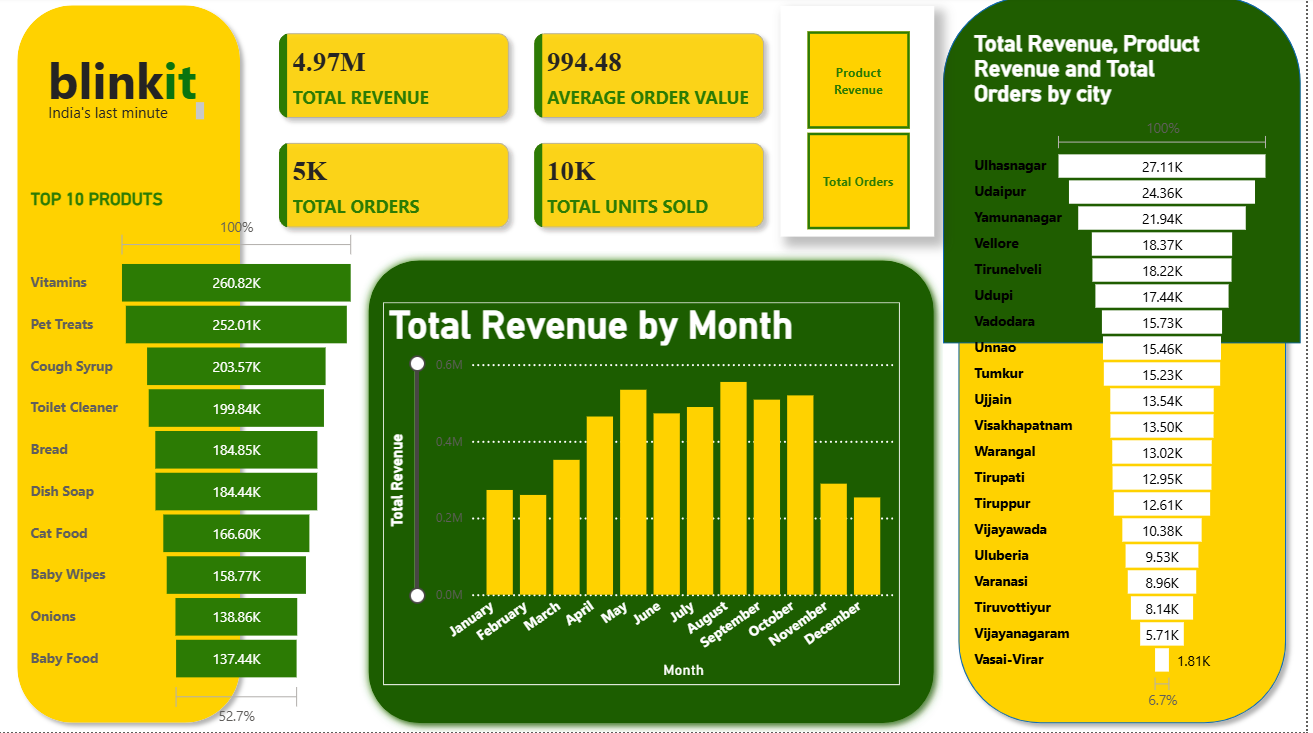

What the dashboard file says about the page in this screenshot:
{"tool":"powerbi","page":{"name":"Sales & Order summary","canvas":[1280,720],"ordinal":0},"visuals":[{"type":"shape","box":[10,0,236,720],"z":0},{"type":"textbox","box":[44,44,238,78],"z":1000},{"type":"textbox","box":[43.8,98.5,162.3,34.6],"z":2000},{"type":"cardVisual","fields":{"Data":["blinkit_customer_feedback.Total Revenue","blinkit_customer_feedback.Average Order Value","blinkit_customer_feedback.Total Orders","blinkit_customer_feedback.Total Units Sold"]},"box":[258.6,20,508.6,225.7],"z":3000},{"type":"shape","box":[353.4,249.5,571.1,470.8],"z":4000},{"type":"columnChart","fields":{"Category":["blinkit_orders.order_date.Variation.Date Hierarchy.Month"],"Y":["blinkit_customer_feedback.Total Revenue"]},"box":[377.1,300,505.7,374.3],"z":5000},{"type":"funnel","title":"TOP 10 PRODUTS","fields":{"Category":["blinkit_products.product_name"],"Y":["blinkit_customer_feedback.Total Revenue"]},"box":[26.7,188.3,328.3,531.7],"z":6000},{"type":"shape","box":[930,22.9,338.6,697.1],"z":7000},{"type":"shape","box":[924.3,0,350,340],"z":8000},{"type":"funnel","fields":{"Category":["blinkit_customers.city"],"Y":["blinkit_customer_feedback.Total Revenue"]},"box":[950,34.3,300,668.6],"z":9000},{"type":"slicer","fields":{"Values":["Parameter.Parameter"]},"box":[765.7,10,150,225.7],"z":10000}]}

Visuals, with their boxes in screenshot pixels (x1, y1, x2, y2), scaled from the page's 1280x720 canvas onto the 1313x733 screenshot:
shape: [x1=10, y1=0, x2=252, y2=732]
textbox: [x1=45, y1=45, x2=289, y2=124]
textbox: [x1=45, y1=100, x2=211, y2=136]
cardVisual - blinkit_customer_feedback.Total Revenue x blinkit_customer_feedback.Average Order Value: [x1=265, y1=20, x2=787, y2=250]
shape: [x1=363, y1=254, x2=948, y2=732]
columnChart - blinkit_orders.order_date.Variation.Date Hierarchy.Month x blinkit_customer_feedback.Total Revenue: [x1=387, y1=305, x2=906, y2=686]
"TOP 10 PRODUTS" funnel: [x1=27, y1=192, x2=364, y2=732]
shape: [x1=954, y1=23, x2=1301, y2=732]
shape: [x1=948, y1=0, x2=1307, y2=346]
funnel - blinkit_customers.city x blinkit_customer_feedback.Total Revenue: [x1=974, y1=35, x2=1282, y2=716]
slicer - Parameter.Parameter: [x1=785, y1=10, x2=939, y2=240]
